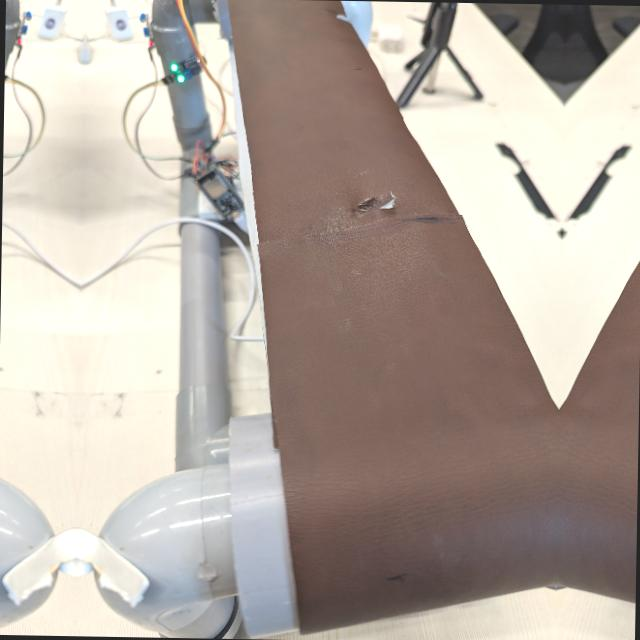joint_damage: (335, 187, 417, 224)
